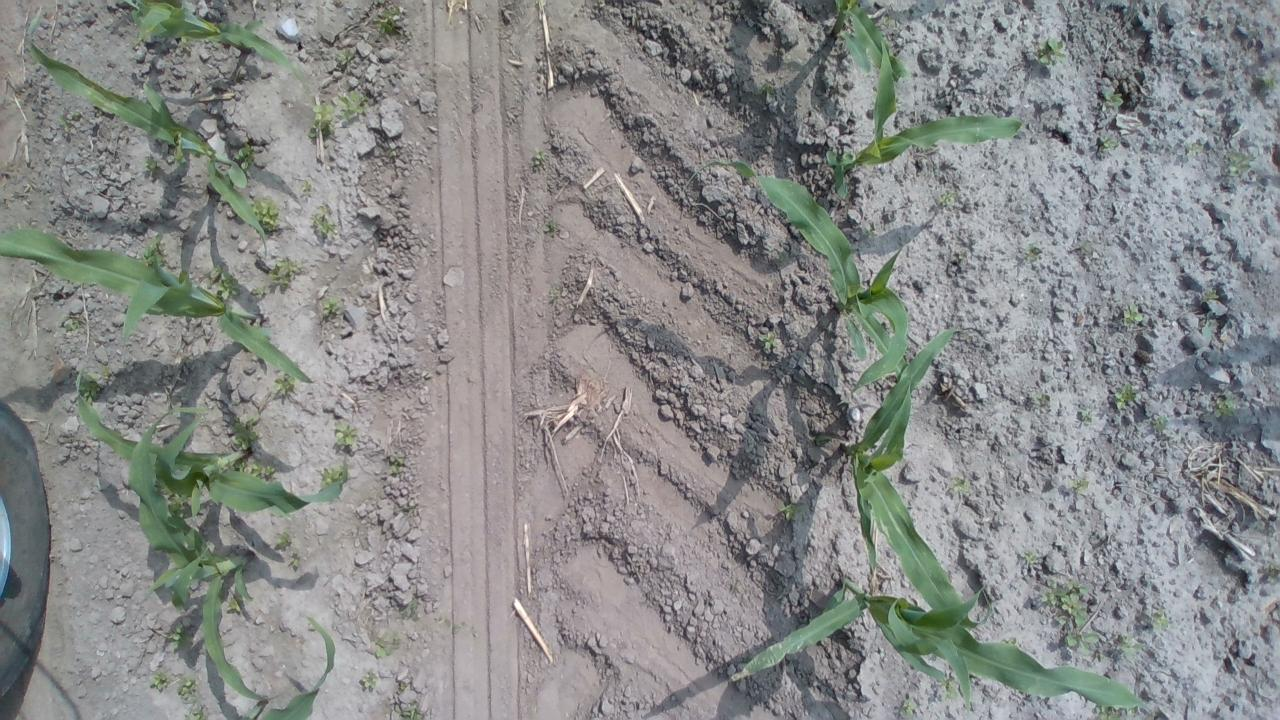Maize: (108, 415, 346, 714), (702, 562, 1146, 720), (0, 210, 348, 400), (12, 38, 306, 248), (802, 328, 982, 646), (724, 141, 932, 387), (61, 373, 326, 536), (790, 16, 1040, 182), (100, 0, 306, 89)
Weeds: (1032, 577, 1094, 654), (305, 88, 370, 142), (203, 264, 258, 306), (140, 232, 184, 274), (77, 366, 123, 404), (247, 199, 290, 239), (268, 528, 303, 575), (266, 256, 310, 292), (172, 674, 208, 718), (374, 7, 414, 43), (166, 618, 200, 660), (228, 416, 268, 450), (1030, 34, 1066, 70), (237, 457, 283, 485), (392, 685, 426, 720), (313, 204, 342, 244), (369, 629, 402, 663), (1220, 146, 1252, 180), (316, 464, 352, 494), (332, 420, 362, 456), (313, 292, 345, 322), (1110, 381, 1138, 414), (1148, 606, 1175, 640), (544, 285, 573, 316), (1200, 287, 1216, 343), (1105, 634, 1137, 662), (382, 451, 411, 480), (271, 372, 300, 400), (1026, 388, 1056, 415), (232, 146, 262, 172), (220, 590, 251, 615), (355, 667, 385, 692), (756, 329, 780, 360), (932, 674, 958, 701), (1017, 550, 1042, 578), (543, 210, 563, 244), (398, 594, 424, 620), (332, 48, 364, 69), (1119, 301, 1142, 330), (1210, 395, 1235, 421), (948, 474, 972, 500), (1066, 474, 1089, 499), (528, 146, 550, 172), (1020, 241, 1044, 264), (1092, 132, 1120, 151), (1074, 240, 1098, 262), (150, 669, 172, 692), (58, 107, 80, 129), (144, 158, 168, 178), (60, 313, 84, 333), (778, 495, 798, 518), (896, 697, 916, 719), (1074, 404, 1096, 424), (938, 188, 957, 210), (756, 82, 778, 99), (1097, 91, 1119, 107), (1152, 413, 1168, 434), (1261, 75, 1276, 92), (1186, 139, 1200, 156)
